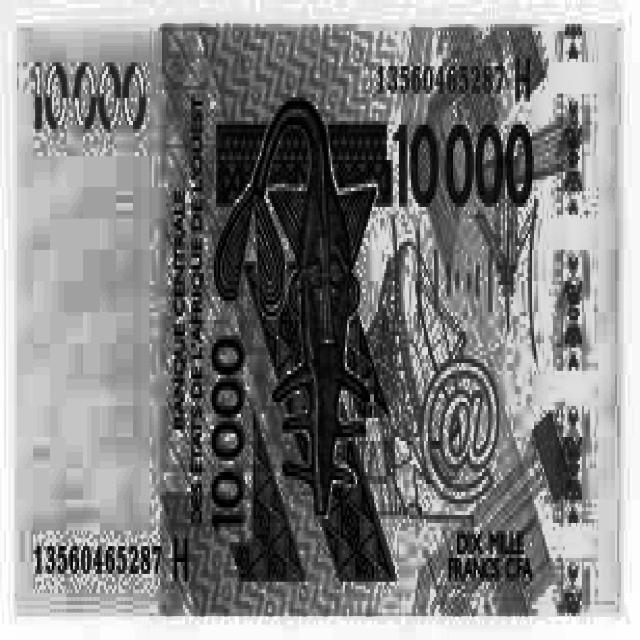niaar junni: (18, 28, 619, 613)
